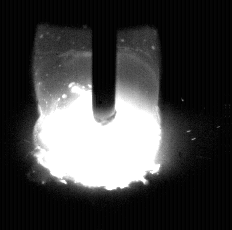arame: (93, 0, 116, 125)
poca: (35, 0, 160, 230)
